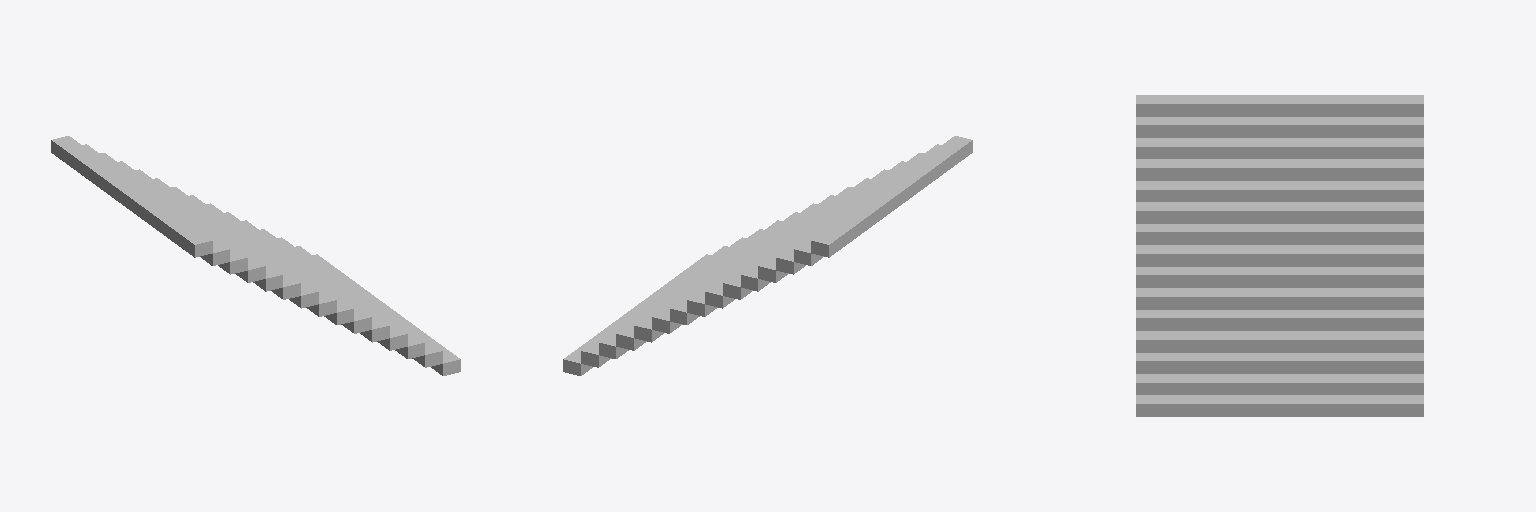
Rendered from Stairs.obj.
3 views of the same model, side by side, from view 1: azimuth 30°, elevation 25°; view 2: azimuth 150°, elevation 25°; view 3: azimuth 270°, elevation 25° (orthographic).
Visible parts, largest first — view 1: Staris_Cube.009; view 2: Staris_Cube.009; view 3: Staris_Cube.009.
Boxes of the visible parts, x1,y1,x2,y2 form: Staris_Cube.009: [51, 136, 460, 375]; Staris_Cube.009: [563, 136, 972, 375]; Staris_Cube.009: [1136, 95, 1423, 416].
Size of the model in its own units: 43.5 by 30 by 40.68.